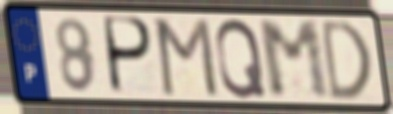8: (52, 15, 97, 95)
D: (318, 17, 374, 104)
M: (254, 18, 334, 102), (153, 16, 221, 101)
P: (103, 14, 156, 98)
Q: (213, 16, 269, 101)
